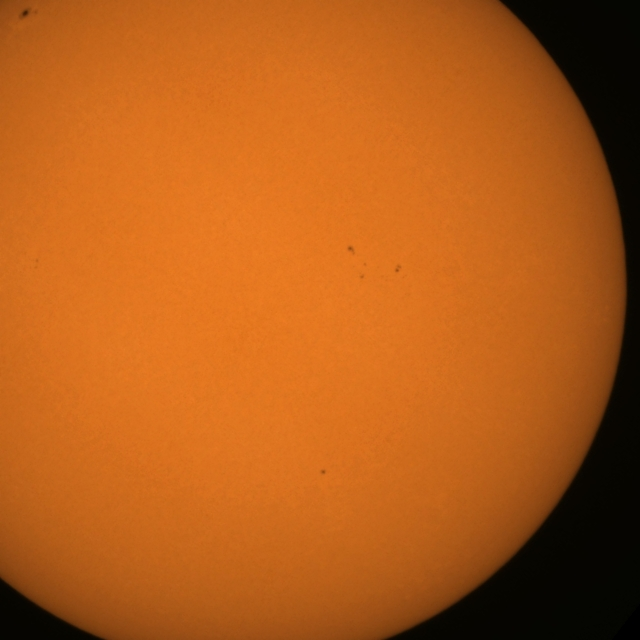sunspot: (18, 6, 39, 22), (346, 244, 357, 256), (360, 262, 368, 278), (33, 257, 40, 270), (394, 264, 403, 274), (358, 271, 366, 280), (319, 468, 327, 476)
